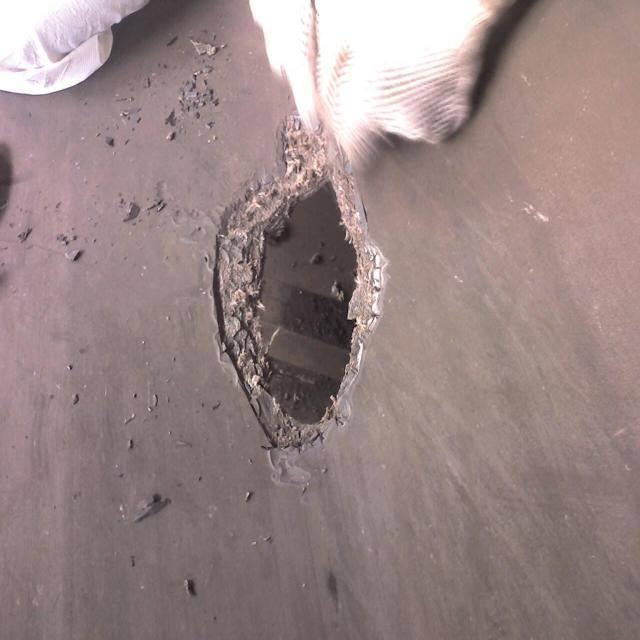Hole: (206, 132, 387, 458)
